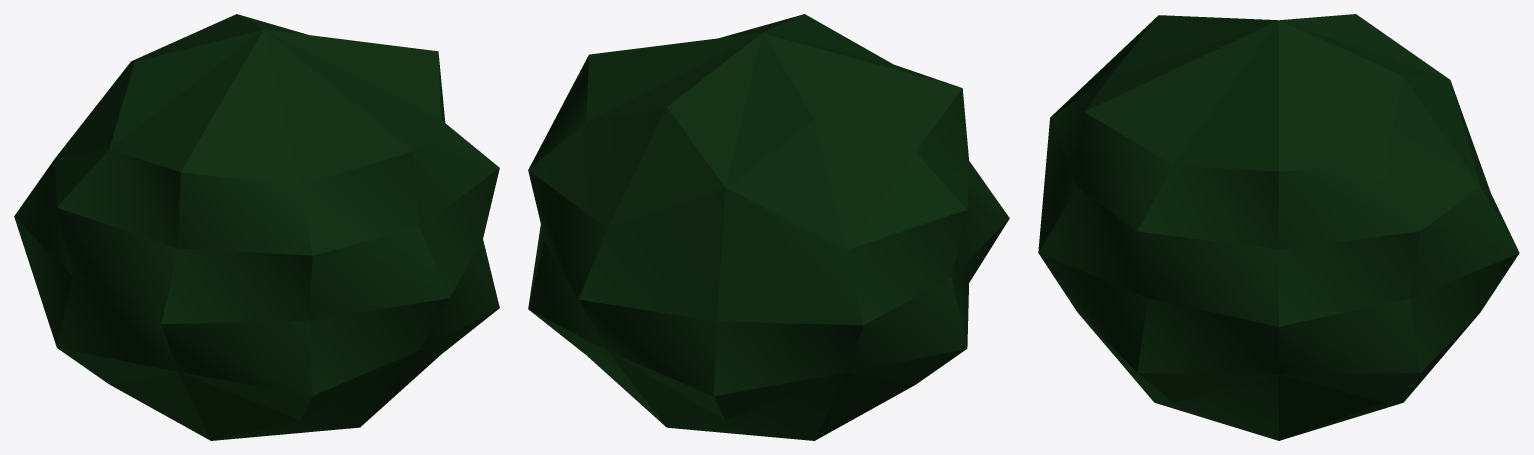
The model's file is DarkGreenBush_v3.fbx.
The picture shows the model from 3 angles, left to right: view 1: azimuth 30°, elevation 25°; view 2: azimuth 150°, elevation 25°; view 3: azimuth 270°, elevation 25°; orthographic projection.
Parts seen in each view (by area): view 1: pSphere5; view 2: pSphere5; view 3: pSphere5.
Part boxes in pixels (x1=…): pSphere5: x1=14, y1=14, x2=499, y2=440; pSphere5: x1=528, y1=14, x2=1009, y2=440; pSphere5: x1=1038, y1=14, x2=1519, y2=440.
Size of the model in its own units: 0.0553 by 0.0499 by 0.0539.
